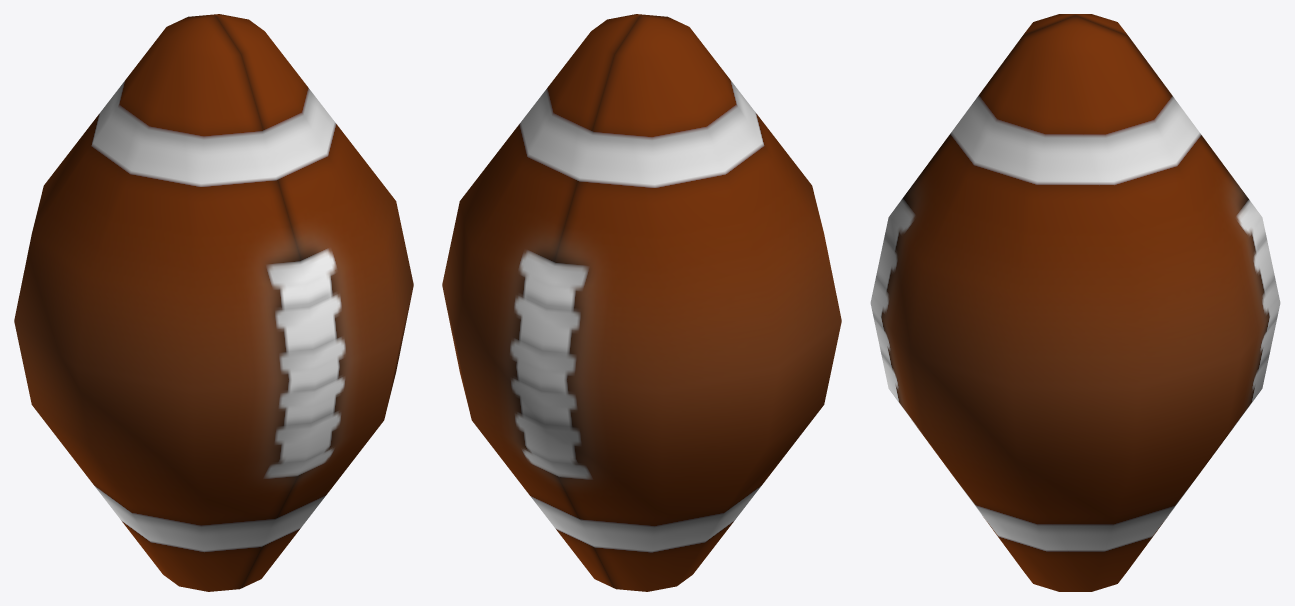
Rendered from american_ball.FBX.
3 renders of one model, left to right at view 1: azimuth 30°, elevation 25°; view 2: azimuth 150°, elevation 25°; view 3: azimuth 270°, elevation 25°, orthographic.
Parts seen in each view (by area): view 1: Sphere002; view 2: Sphere002; view 3: Sphere002.
Part boxes in pixels (bbox=[...]): Sphere002: bbox=[14, 14, 413, 591]; Sphere002: bbox=[442, 14, 841, 591]; Sphere002: bbox=[870, 14, 1280, 591].
Size of the model in its own units: 101 by 166 by 107.
